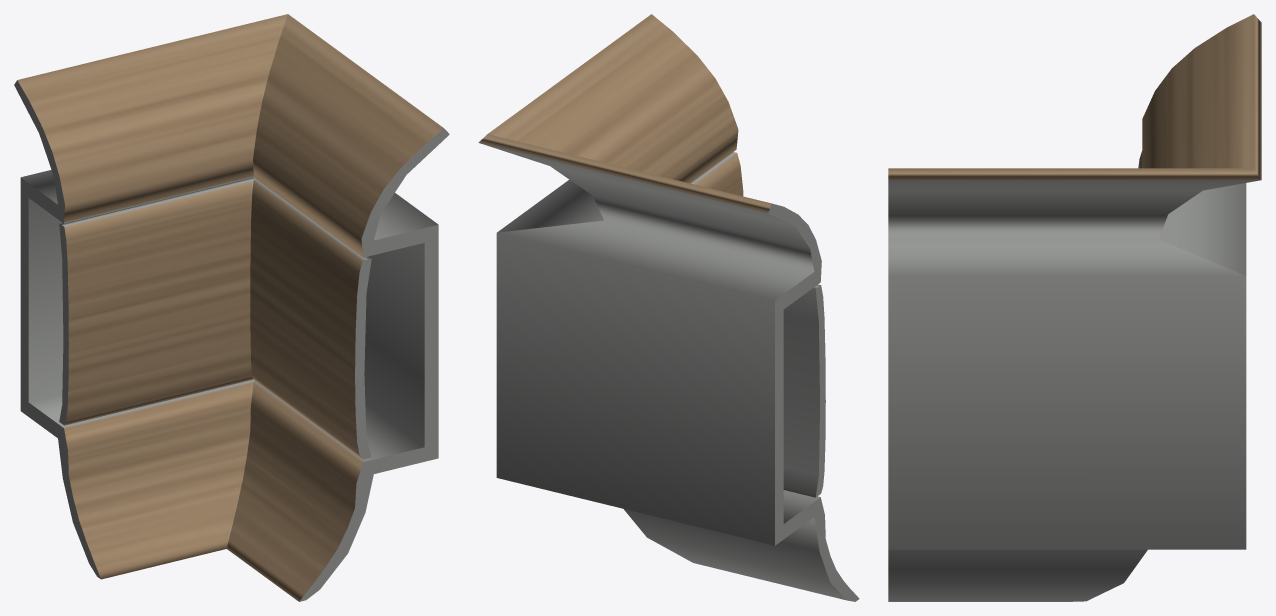
File: Skirting_InnerCorner_LOD0.fbx
The picture shows the model from 3 angles, left to right: view 1: azimuth 30°, elevation 25°; view 2: azimuth 150°, elevation 25°; view 3: azimuth 270°, elevation 25°; orthographic projection. The views are drawn at different scales.
Visible parts, largest first — view 1: Body_LOD0; view 2: Body_LOD0; view 3: Body_LOD0.
Boxes of the visible parts, x1,y1,x2,y2 form: Body_LOD0: [14, 14, 449, 601]; Body_LOD0: [478, 14, 859, 601]; Body_LOD0: [888, 14, 1261, 601].
Size of the model in its own units: 0.0396 by 0.06 by 0.0396.
